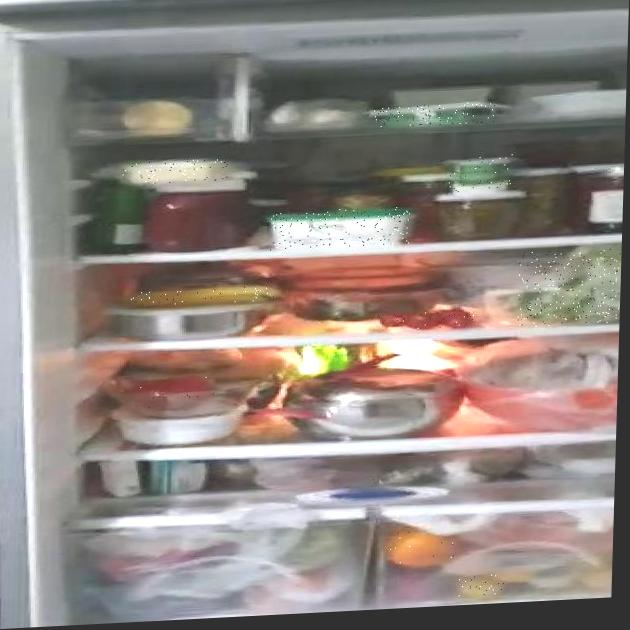banana: (128, 285, 283, 309)
cheese: (270, 205, 410, 251), (123, 158, 231, 185)
cream cheese: (373, 101, 495, 128)
lemon: (454, 574, 504, 597)
lettuce: (517, 247, 622, 328)
orange: (385, 528, 461, 566)
tomatoes: (134, 374, 216, 409), (377, 309, 474, 332)
yoghurt: (447, 154, 513, 194)
